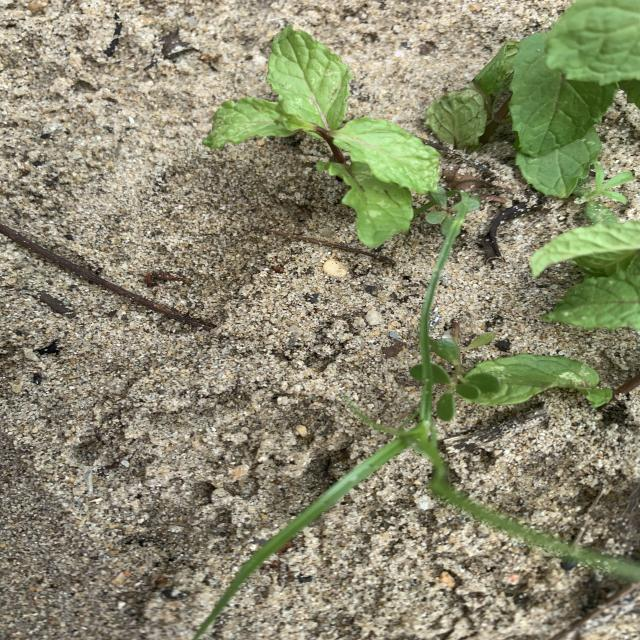crop: (203, 26, 439, 247), (426, 0, 640, 198), (460, 222, 640, 408)
weed: (194, 211, 640, 640), (410, 322, 501, 421), (574, 162, 634, 225), (420, 186, 480, 235)
